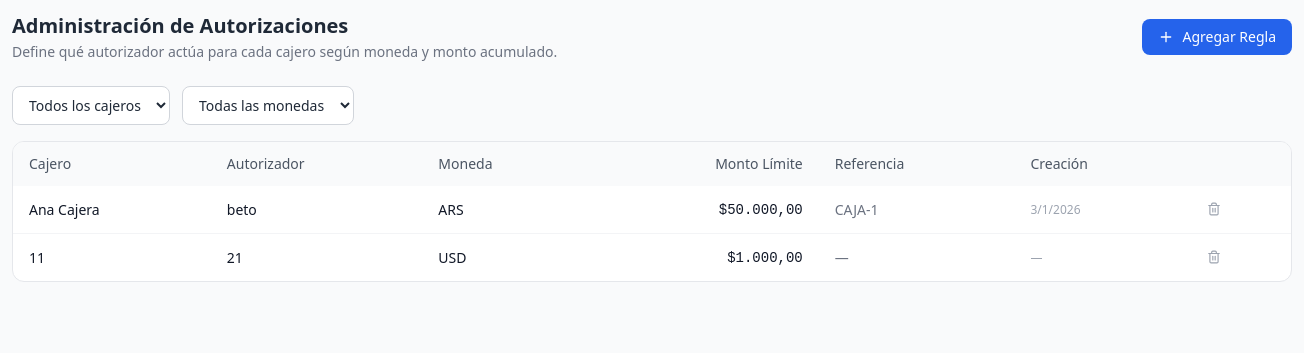
Test case: RulesPage — baja de reglas › muestra el error si la baja falla
Check: the cell "Ana Cajera" is shown, box [13, 186, 211, 234]
Step 1. Click the button titled "Eliminar regla" in the row of "11" → click(1214, 257), box [1203, 246, 1225, 268]
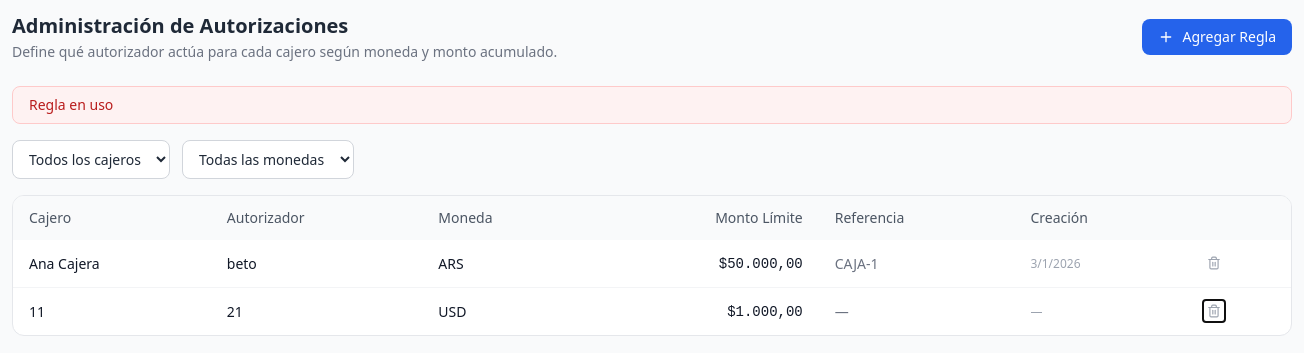
Check: the text "Regla en uso" is shown, box [12, 86, 1292, 124]
